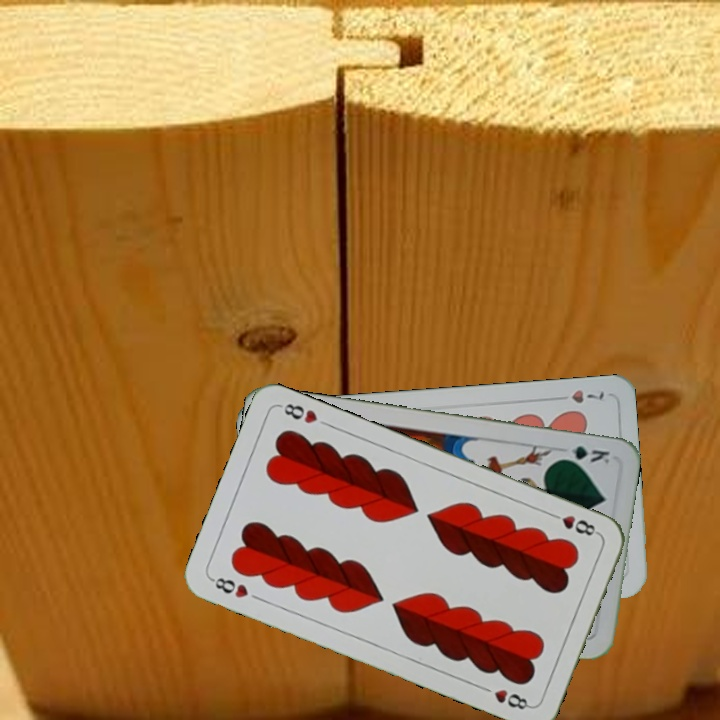GK: (555, 441, 612, 466)
H7: (550, 386, 607, 406)
H8: (545, 508, 602, 539), (207, 573, 251, 601)
